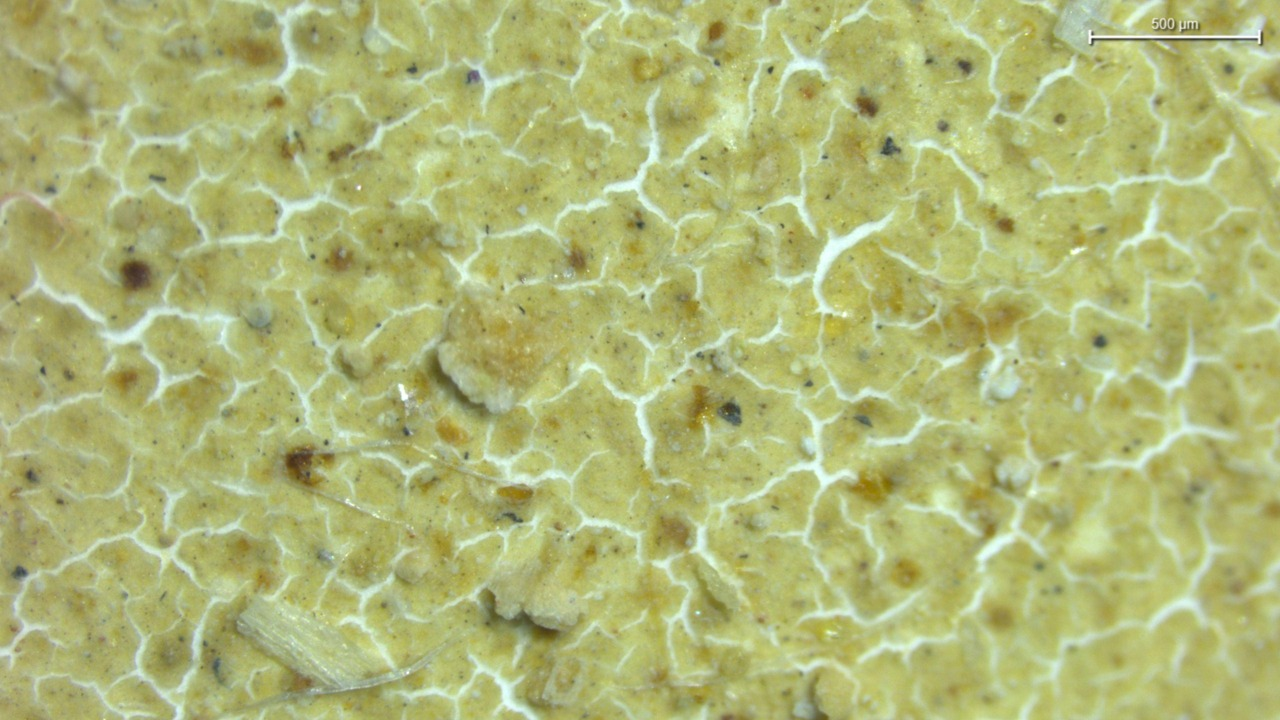microplastic_fragment: (1054, 0, 1107, 49), (995, 456, 1042, 494), (241, 302, 273, 334)
